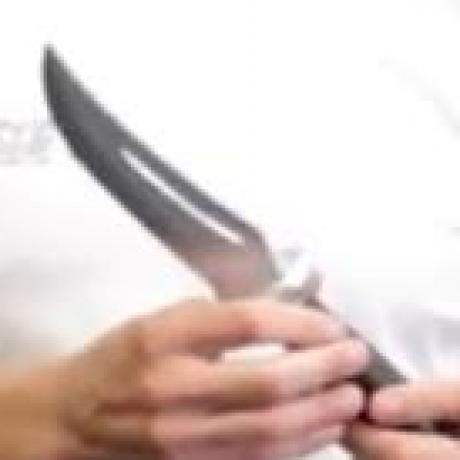1: (0, 294, 460, 460)
weapon: (38, 42, 328, 312)
